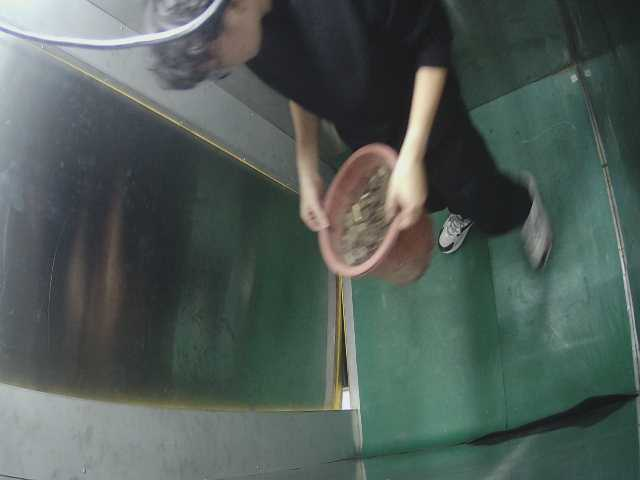flowerpot: (304, 136, 439, 292)
person: (148, 5, 564, 288)
